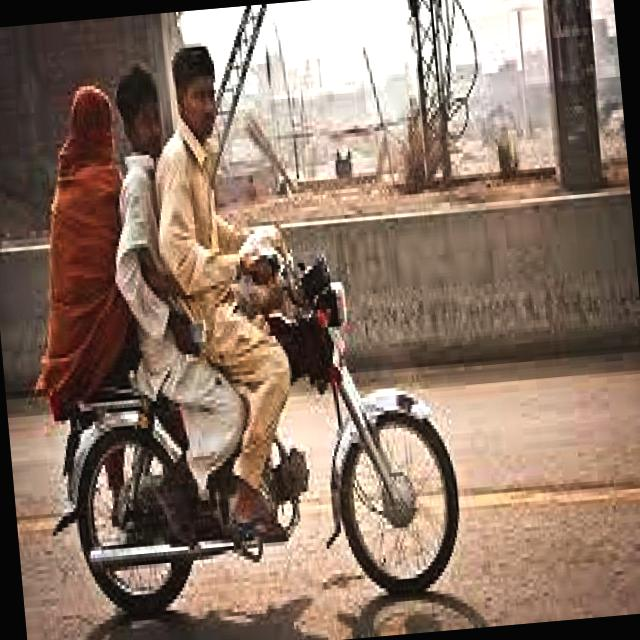motorcycle: (26, 244, 472, 638)
person: (93, 47, 245, 480), (158, 41, 300, 492), (25, 81, 148, 416)
rider_region: (22, 23, 472, 628)
